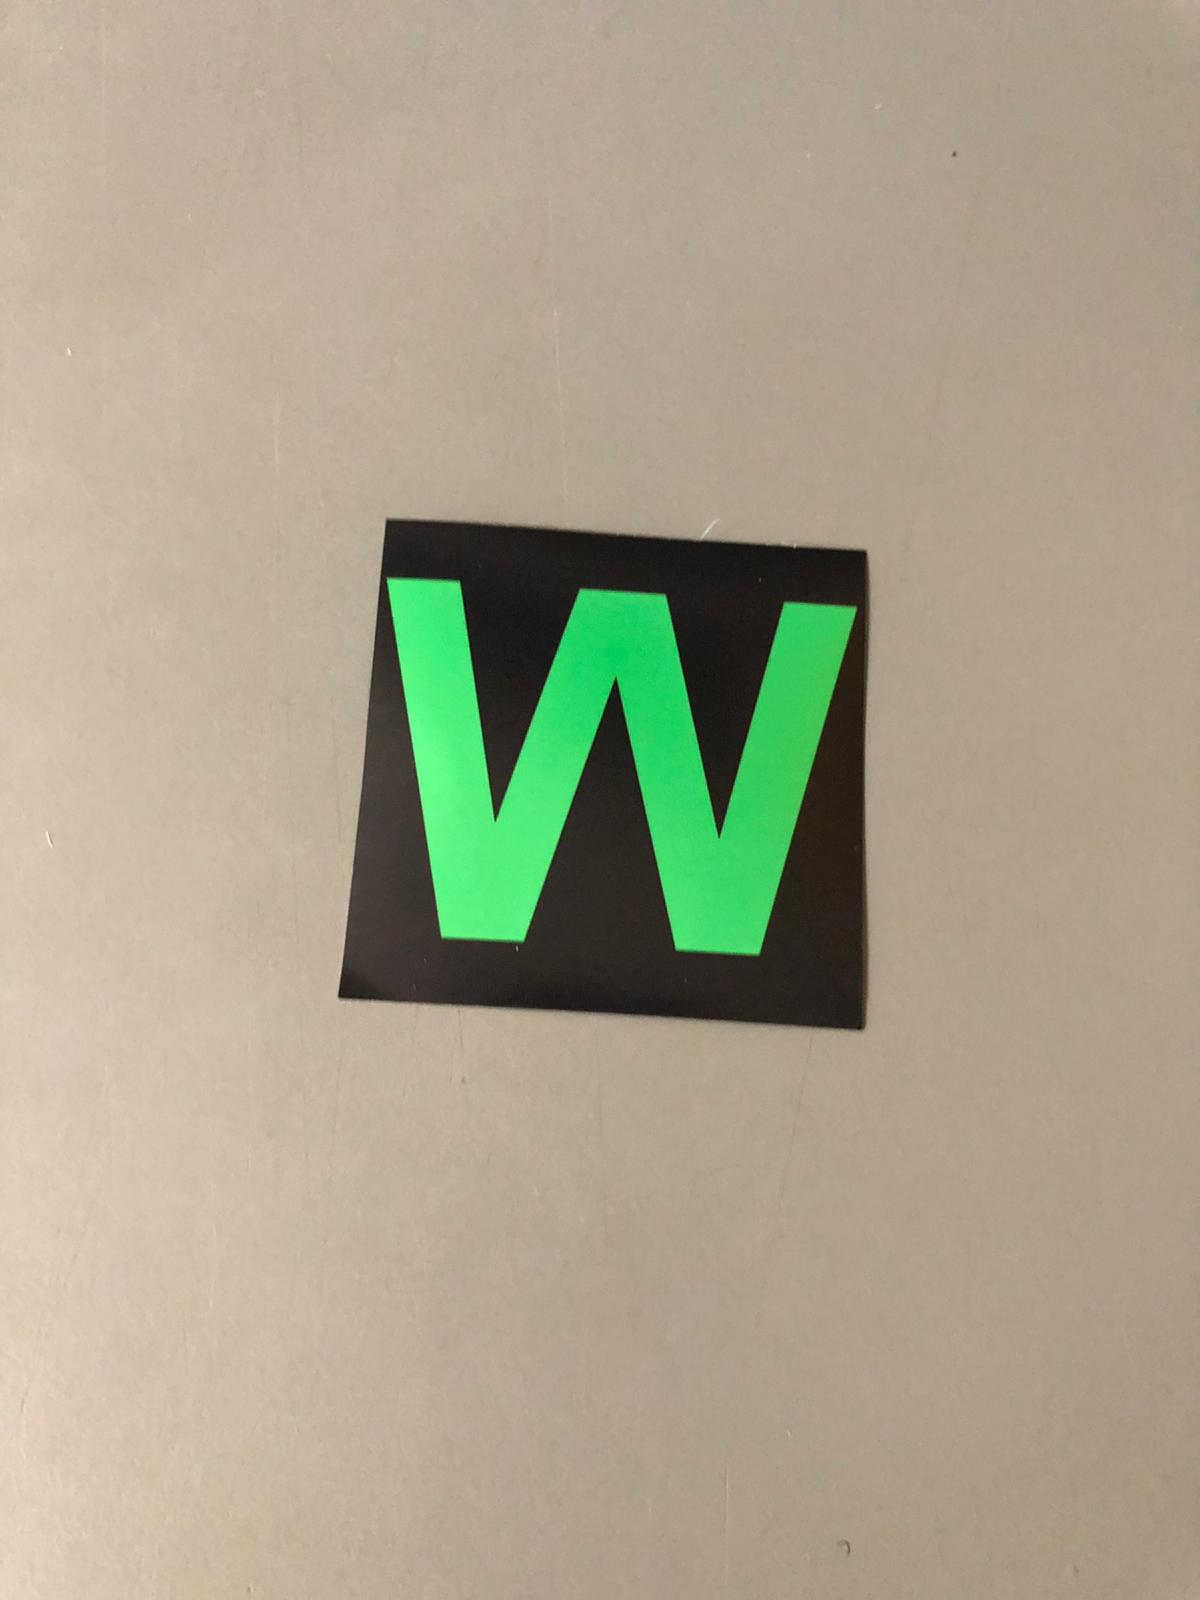W: (369, 529, 865, 1015)
